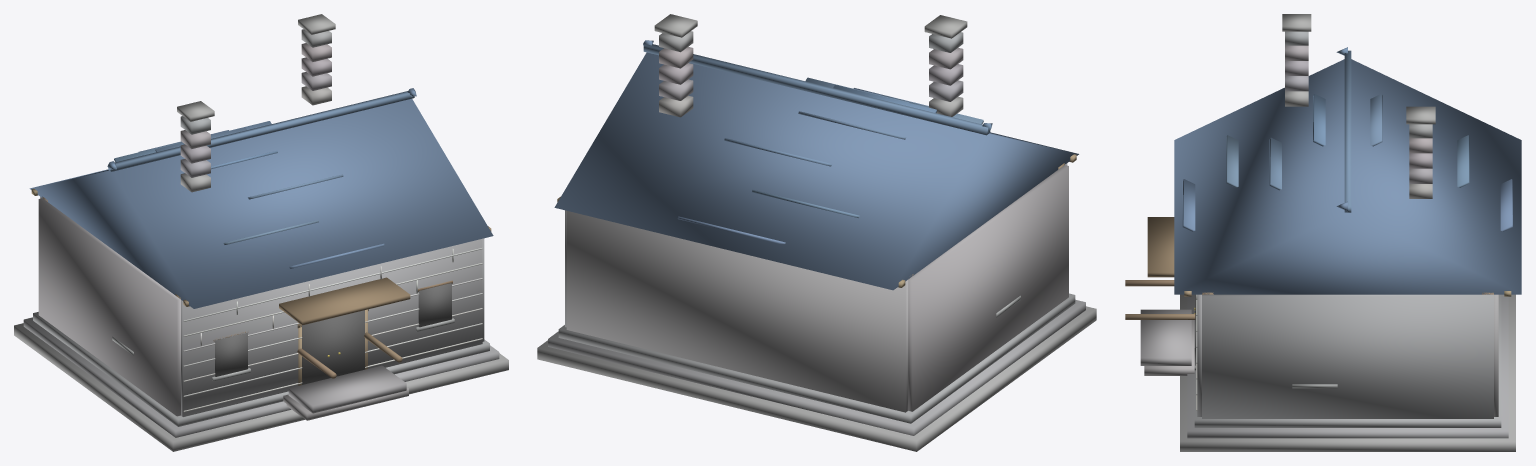
File: building_upgrade_l4.glb
3 renders of one model, left to right at view 1: azimuth 30°, elevation 25°; view 2: azimuth 150°, elevation 25°; view 3: azimuth 270°, elevation 25°, orthographic. The views are drawn at different scales.
Visible parts, largest first — view 1: roof_body, front_wall, side_-1, foundation0, foundation1, open0, foundation2, step1, porch_canopy, ridge, open2, open1 (+4 smaller); view 2: roof_body, back, side_-1, foundation0, foundation1, foundation2, ridge, chim_1.5_cap, chim_-1.5_cap, chim_1.5_brick3, chim_1.5_brick0, chim_-1.5_brick2 (+4 smaller); view 3: roof_body, side_1, foundation0, foundation1, foundation2, step1, porch_canopy, ridge, tile_-1_0, step0, tile_-1_2, tile_1_1 (+9 smaller).
Part boxes in pixels (left/top/right/bottom): roof_body: left=29, top=98, right=493, bottom=308; front_wall: left=181, top=238, right=482, bottom=416; side_-1: left=38, top=198, right=180, bottom=416; foundation0: left=14, top=323, right=508, bottom=451; foundation1: left=23, top=317, right=499, bottom=437; open0: left=302, top=310, right=364, bottom=384; foundation2: left=33, top=312, right=489, bottom=426; step1: left=288, top=365, right=406, bottom=413; porch_canopy: left=279, top=277, right=410, bottom=325; ridge: left=108, top=91, right=414, bottom=171; open2: left=418, top=283, right=451, bottom=327; open1: left=215, top=333, right=247, bottom=376; roof_body: left=554, top=52, right=1078, bottom=290; back: left=566, top=211, right=908, bottom=412; side_-1: left=908, top=165, right=1068, bottom=411; foundation0: left=537, top=306, right=1096, bottom=451; foundation1: left=548, top=299, right=1085, bottom=435; foundation2: left=558, top=293, right=1075, bottom=423; ridge: left=643, top=44, right=990, bottom=135; chim_1.5_cap: left=654, top=14, right=697, bottom=37; chim_-1.5_cap: left=924, top=15, right=967, bottom=38; chim_1.5_brick3: left=659, top=47, right=693, bottom=68; chim_1.5_brick0: left=659, top=95, right=693, bottom=117; chim_-1.5_brick2: left=929, top=64, right=963, bottom=85; roof_body: left=1174, top=59, right=1521, bottom=294; side_1: left=1202, top=294, right=1493, bottom=418; foundation0: left=1180, top=294, right=1515, bottom=451; foundation1: left=1187, top=294, right=1508, bottom=438; foundation2: left=1194, top=294, right=1501, bottom=427; step1: left=1140, top=309, right=1191, bottom=365; porch_canopy: left=1147, top=217, right=1174, bottom=277; ridge: left=1344, top=50, right=1351, bottom=212; tile_-1_0: left=1182, top=179, right=1195, bottom=231; step0: left=1144, top=320, right=1194, bottom=375; tile_-1_2: left=1269, top=137, right=1281, bottom=190; tile_1_1: left=1457, top=135, right=1469, bottom=187.
Bounding box in the file's own units: 5.6 × 4.52 × 5.43.
